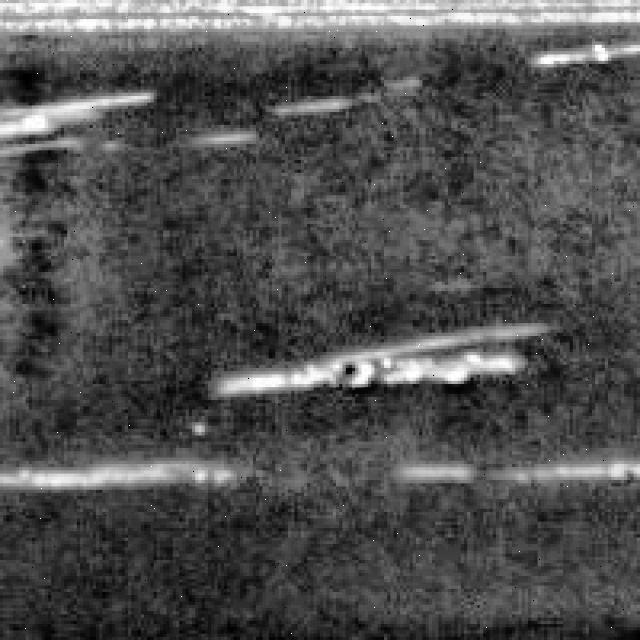Inclusion: (6, 0, 640, 64), (198, 304, 564, 406), (3, 448, 285, 496), (3, 80, 163, 160), (400, 448, 640, 486)
